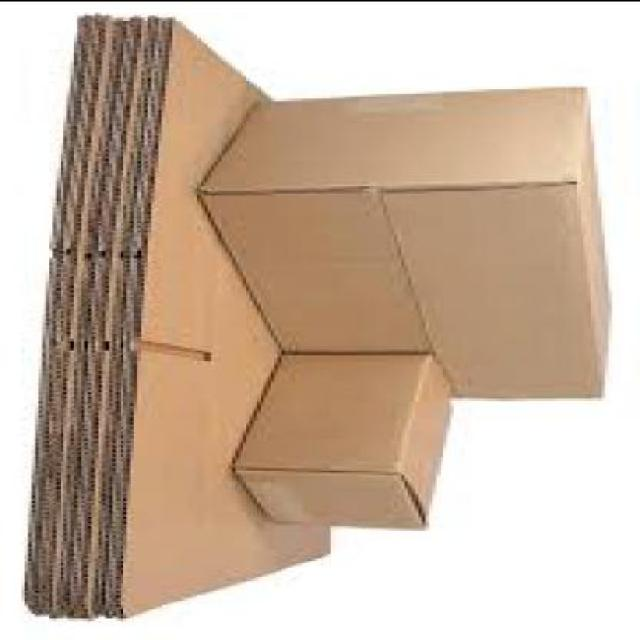CARDBOARD: (24, 14, 330, 617), (119, 19, 335, 618), (204, 88, 616, 400), (235, 353, 457, 532)
